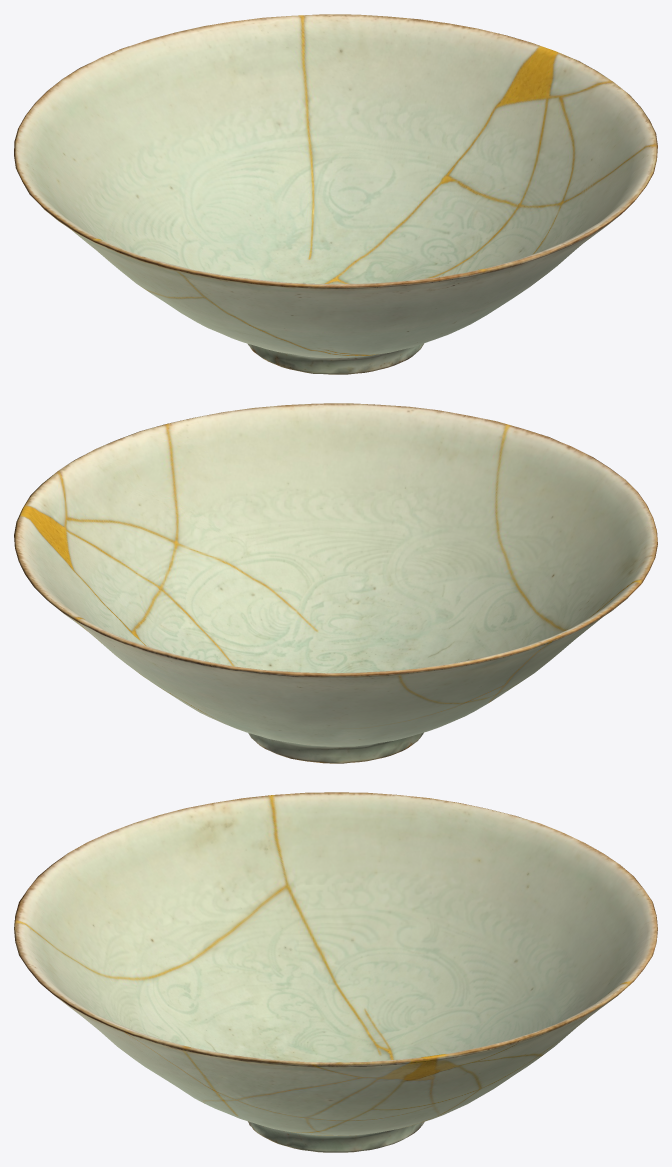
Rendered from assets__models__kintsugi-2.glb.
The picture shows the model from 3 angles, top to bottom: view 1: azimuth 30°, elevation 25°; view 2: azimuth 150°, elevation 25°; view 3: azimuth 270°, elevation 25°; orthographic projection.
Visible parts, largest first — view 1: tripo_node_2a533b22-a23a-4856-8261-e764ae0708aa; view 2: tripo_node_2a533b22-a23a-4856-8261-e764ae0708aa; view 3: tripo_node_2a533b22-a23a-4856-8261-e764ae0708aa.
Part boxes in pixels (x1,y1,x2,y2): tripo_node_2a533b22-a23a-4856-8261-e764ae0708aa: [14, 14, 657, 374]; tripo_node_2a533b22-a23a-4856-8261-e764ae0708aa: [14, 403, 657, 763]; tripo_node_2a533b22-a23a-4856-8261-e764ae0708aa: [14, 792, 657, 1152].
Size of the model in its own units: 0.998 by 0.3223 by 0.998.
1 material, 1 textured.
